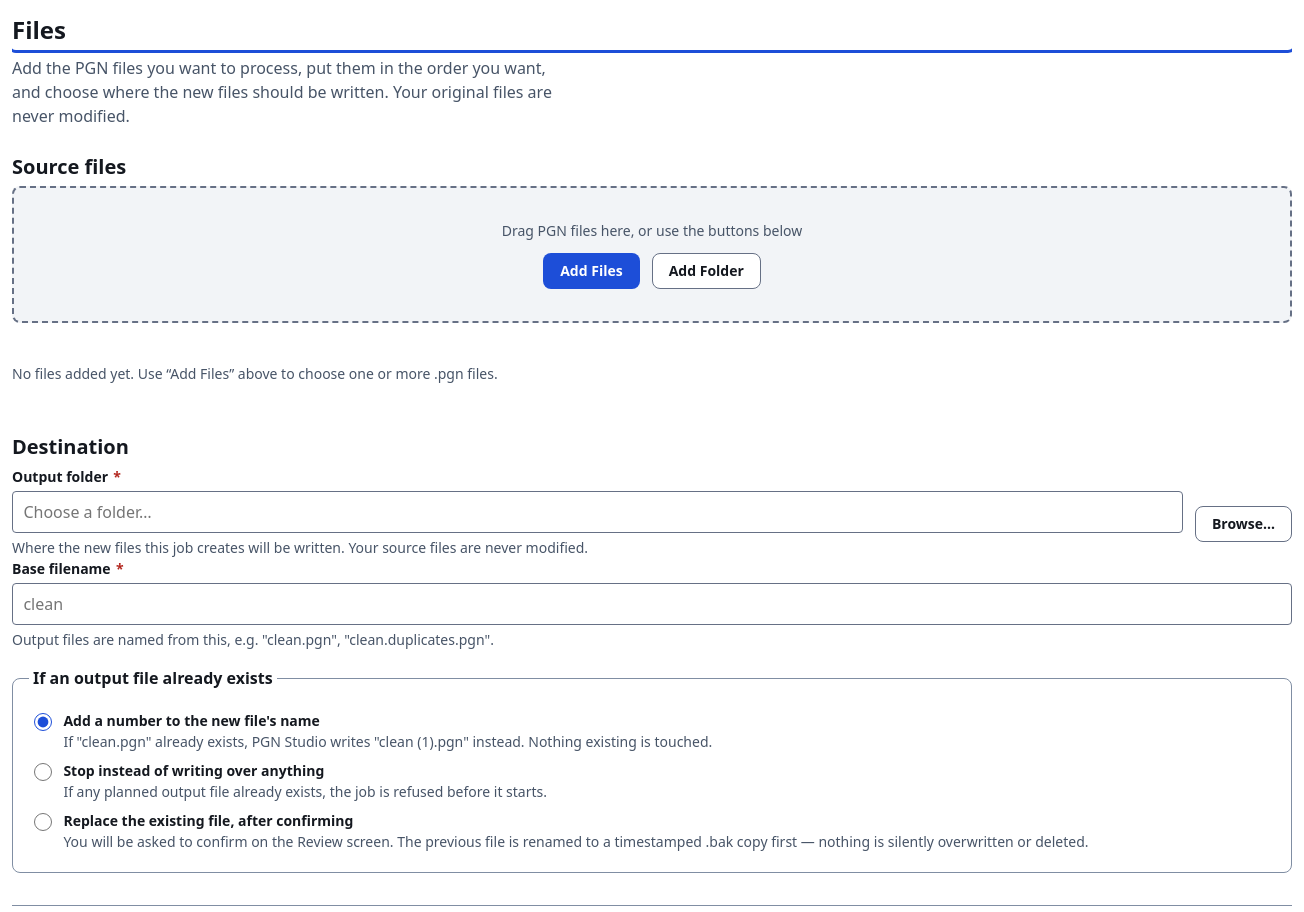
Test case: FilesScreen › requests inspection for newly added files and shows the returned size
Click the button "Add Files" at (591, 271), box [543,253,640,289]
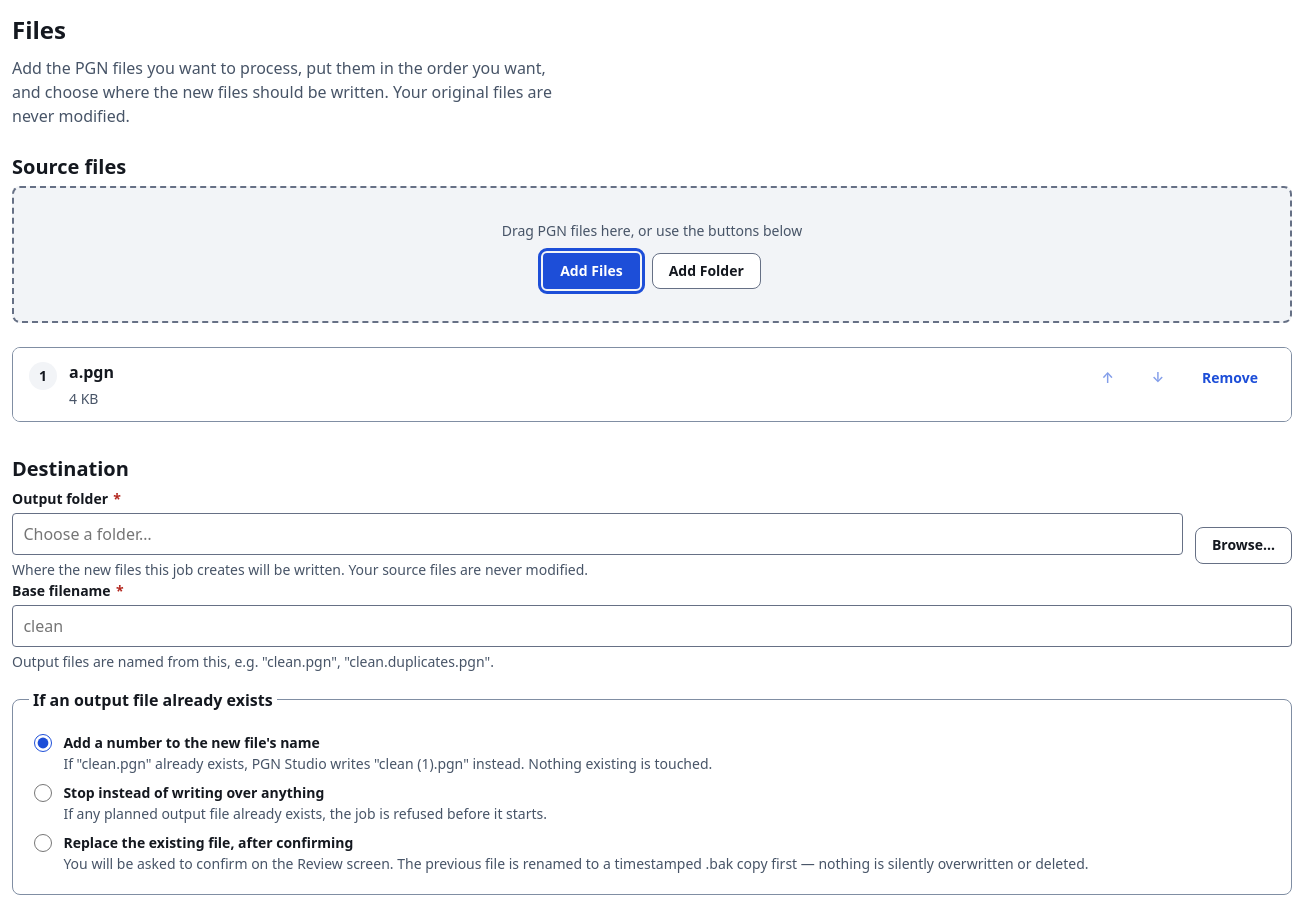
Now the text "4 KB" is shown, box [69,389,98,408]
